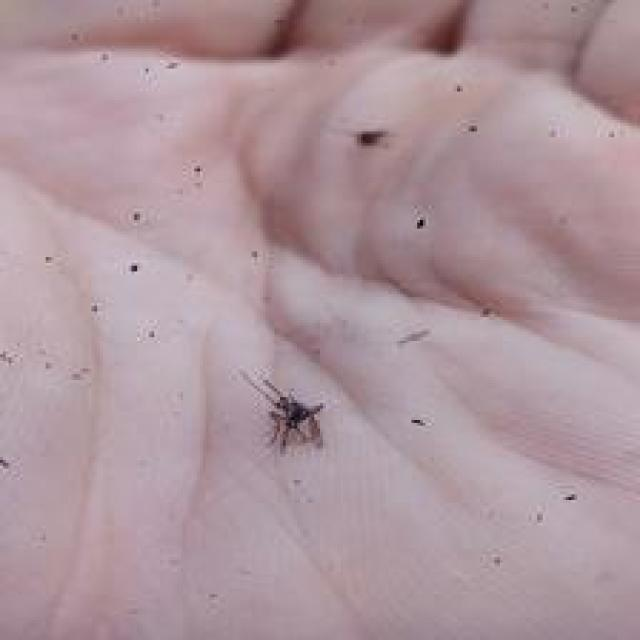Aedes albopictus: (240, 369, 326, 454)
